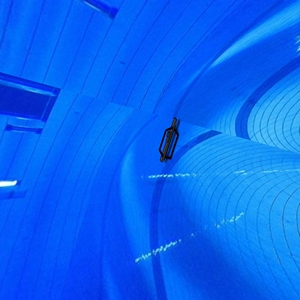submarine: (155, 114, 184, 166)
